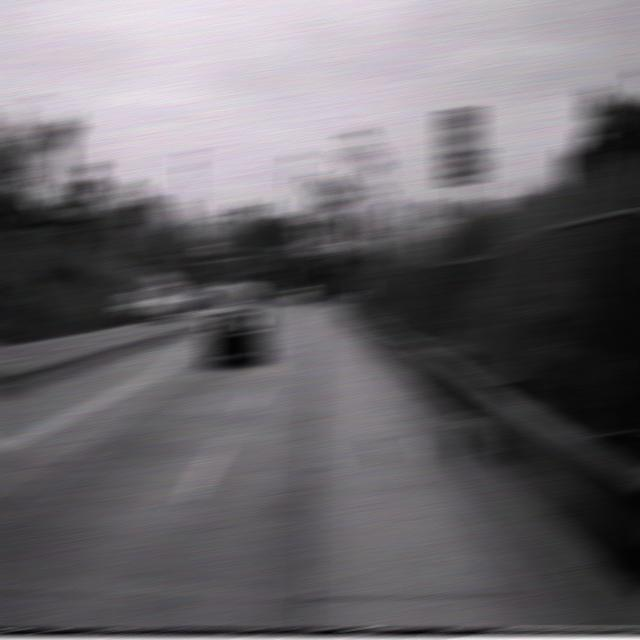speedLimit25: (438, 106, 482, 185)
